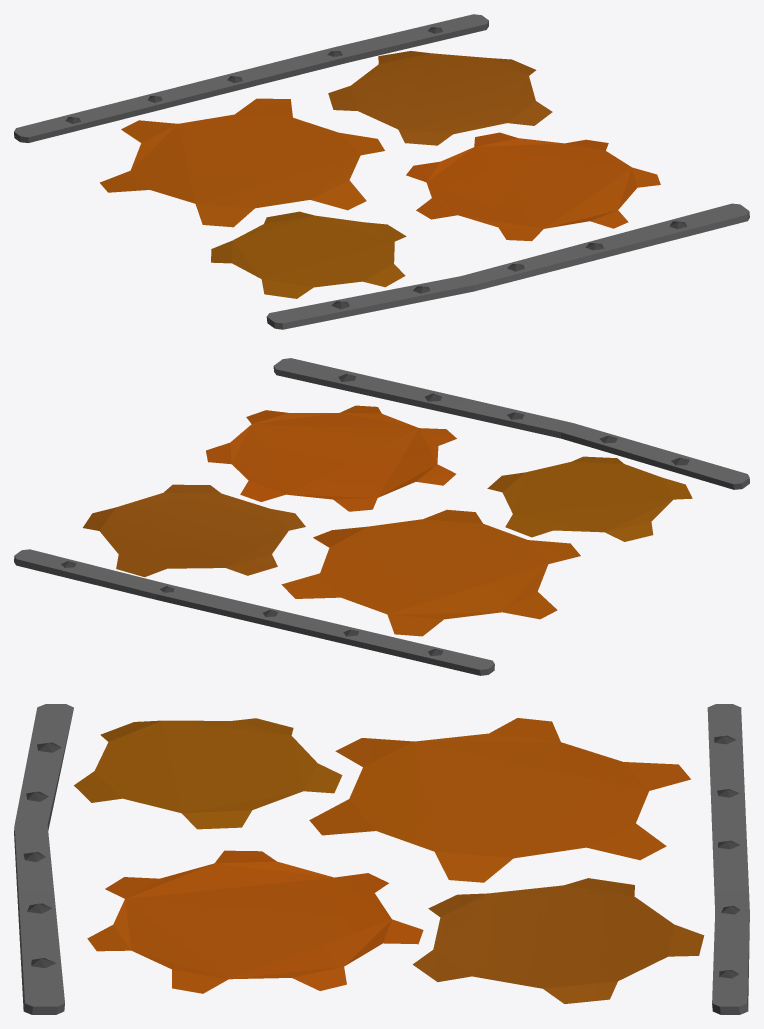
The model's file is Road Straight.glb.
The picture shows the model from 3 angles, top to bottom: view 1: azimuth 30°, elevation 25°; view 2: azimuth 150°, elevation 25°; view 3: azimuth 270°, elevation 25°; orthographic projection. The views are drawn at different scales.
Parts seen in each view (by area): view 1: RoadStraight; view 2: RoadStraight; view 3: RoadStraight.
Boxes of the visible parts, bbox=[...] form: RoadStraight: bbox=[14, 14, 749, 329]; RoadStraight: bbox=[14, 358, 749, 675]; RoadStraight: bbox=[14, 704, 749, 1014].
Size of what is drawn, in the model's own units: 2 by 0.0395 by 2.06.
1 material, 1 textured.
